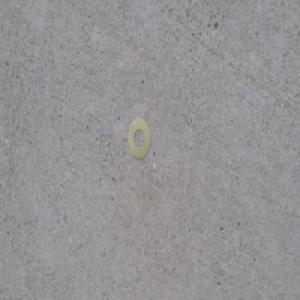Washer: (127, 118, 151, 161)
